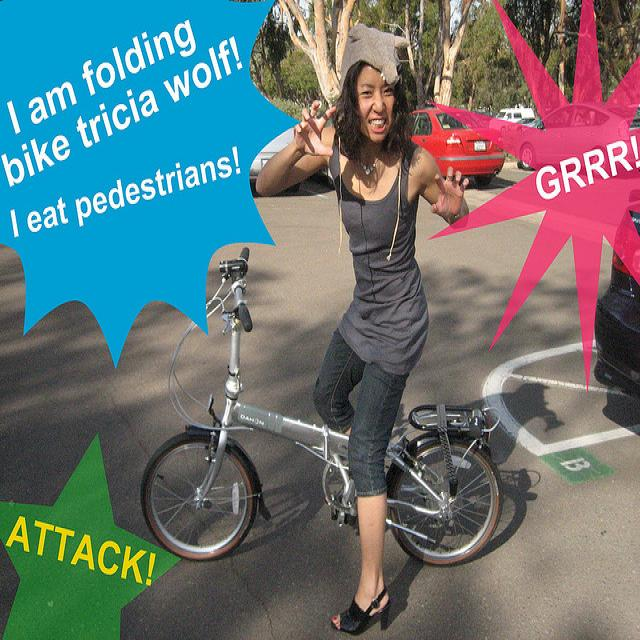Vehicle: (594, 212, 640, 397), (407, 108, 504, 193), (513, 103, 629, 171), (248, 128, 299, 195), (496, 107, 537, 123), (508, 116, 542, 135), (627, 105, 640, 126)
